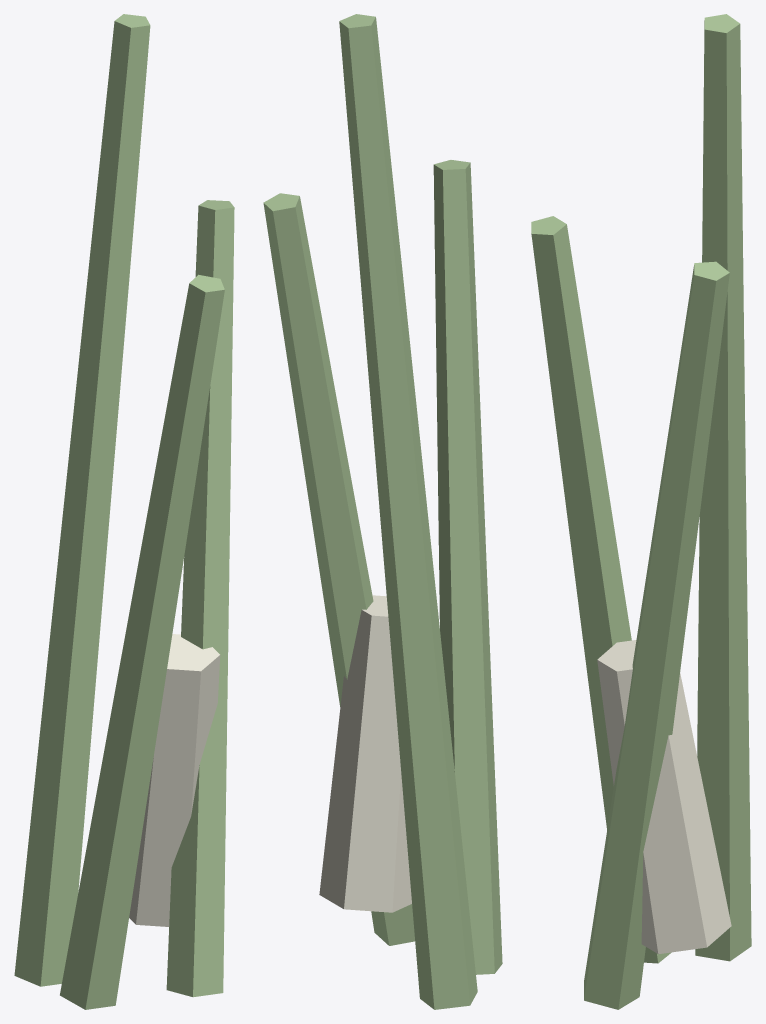
The model's file is reed_heart.glb.
The picture shows the model from 3 angles, left to right: view 1: azimuth 30°, elevation 25°; view 2: azimuth 150°, elevation 25°; view 3: azimuth 270°, elevation 25°; orthographic projection. The views are drawn at different scales.
Visible parts, largest first — view 1: Reed1, Reed2, Reed0, Heart; view 2: Reed1, Reed2, Reed0, Heart; view 3: Reed1, Reed0, Reed2, Heart.
Boxes of the visible parts, left/top/right/bottom form: Reed1: left=14, top=14, right=150, bottom=986; Reed2: left=60, top=274, right=224, bottom=1009; Reed0: left=166, top=200, right=234, bottom=997; Heart: left=129, top=634, right=220, bottom=926; Reed1: left=339, top=14, right=477, bottom=1009; Reed2: left=433, top=160, right=502, bottom=974; Reed0: left=263, top=193, right=414, bottom=945; Heart: left=319, top=595, right=411, bottom=912; Reed1: left=695, top=14, right=751, bottom=961; Reed0: left=584, top=261, right=729, bottom=1009; Reed2: left=531, top=216, right=671, bottom=963; Heart: left=597, top=640, right=731, bottom=954.
Bounding box in the file's own units: 0.1769 × 0.7596 × 0.1559.
